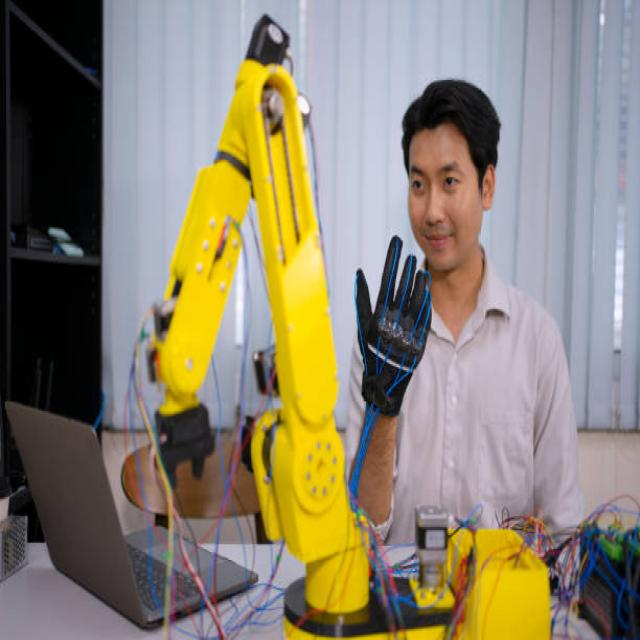Robotic-arm: (146, 13, 406, 640)
